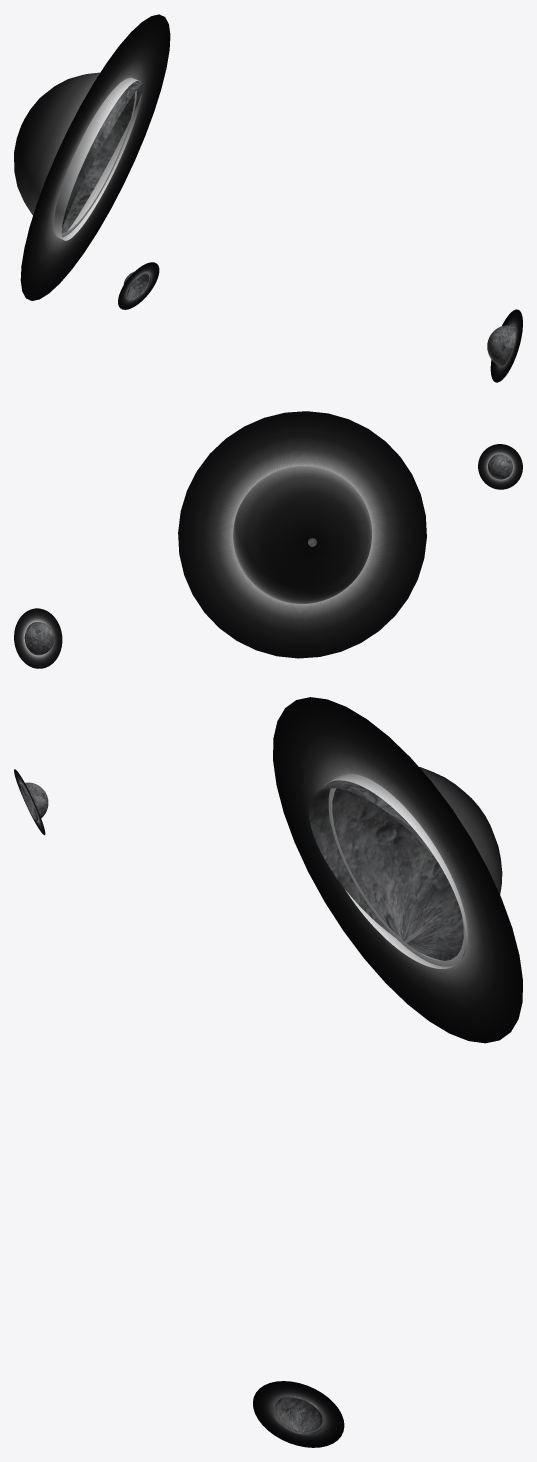
The model's file is env_space_lothal_01_pre.glb.
The picture shows the model from 3 angles, top to bottom: view 1: azimuth 30°, elevation 25°; view 2: azimuth 150°, elevation 25°; view 3: azimuth 270°, elevation 25°; orthographic projection. The views are drawn at different scales.
Visible parts, largest first — view 1: planet_glow_mesh (×3), planet_fresnel_mesh, planet_body_mesh (×3); view 2: planet_glow_mesh (×3), planet_fresnel_mesh, planet_body_mesh (×2); view 3: planet_glow_mesh (×2), planet_body_mesh (×2), planet_fresnel_mesh.
Boxes of the visible parts, x1,y1,x2,y2 form: planet_glow_mesh (×3): [20, 14, 522, 382]; planet_fresnel_mesh: [14, 72, 141, 240]; planet_body_mesh (×3): [61, 80, 515, 366]; planet_glow_mesh (×3): [14, 411, 522, 668]; planet_fresnel_mesh: [233, 465, 371, 603]; planet_body_mesh (×2): [24, 454, 512, 655]; planet_glow_mesh (×2): [253, 697, 522, 1447]; planet_body_mesh (×2): [272, 780, 463, 1434]; planet_fresnel_mesh: [322, 767, 502, 968].
Size of the model in its own units: 1215 by 944 by 825.
3 materials, 3 textured.
